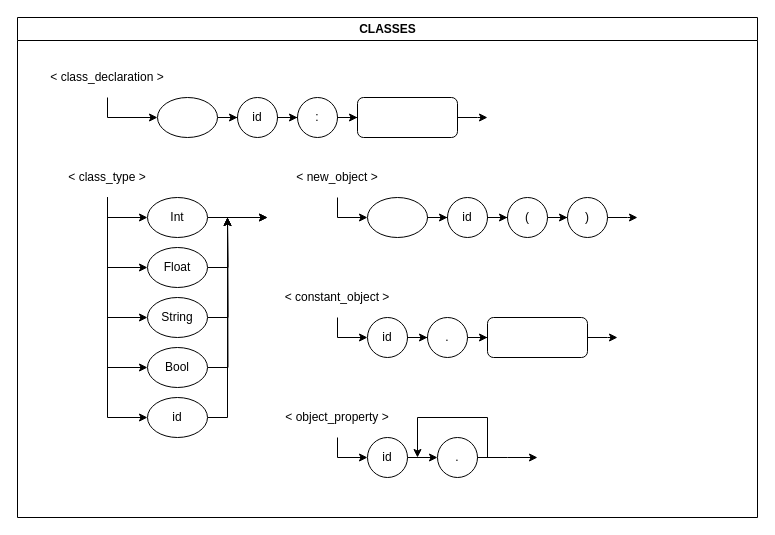
Some shapes in this 775 by 535 pixel diagram are drawn without their labels. Here are the shapes that lost their labels. From the top down, the centre of each, then its label:
the point at 187,117: var
the point at 407,117: class_type
the point at 397,217: new
the point at 537,337: object_property
